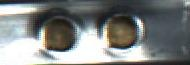joints: (29, 5, 84, 56), (94, 7, 147, 52)
